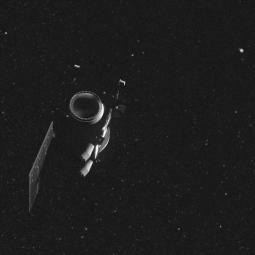proba_3_csc: (18, 63, 140, 208)
